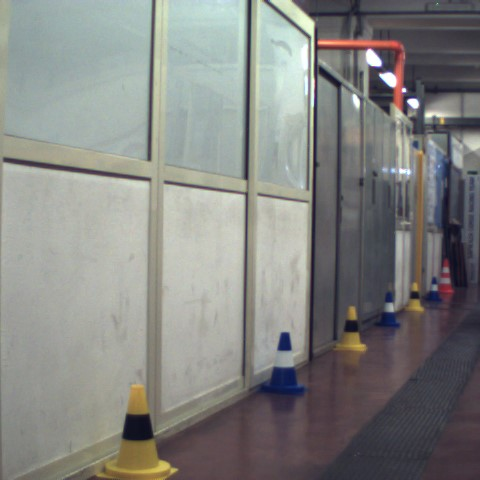cone: (262, 331, 302, 396), (378, 293, 399, 329), (425, 277, 442, 304)
